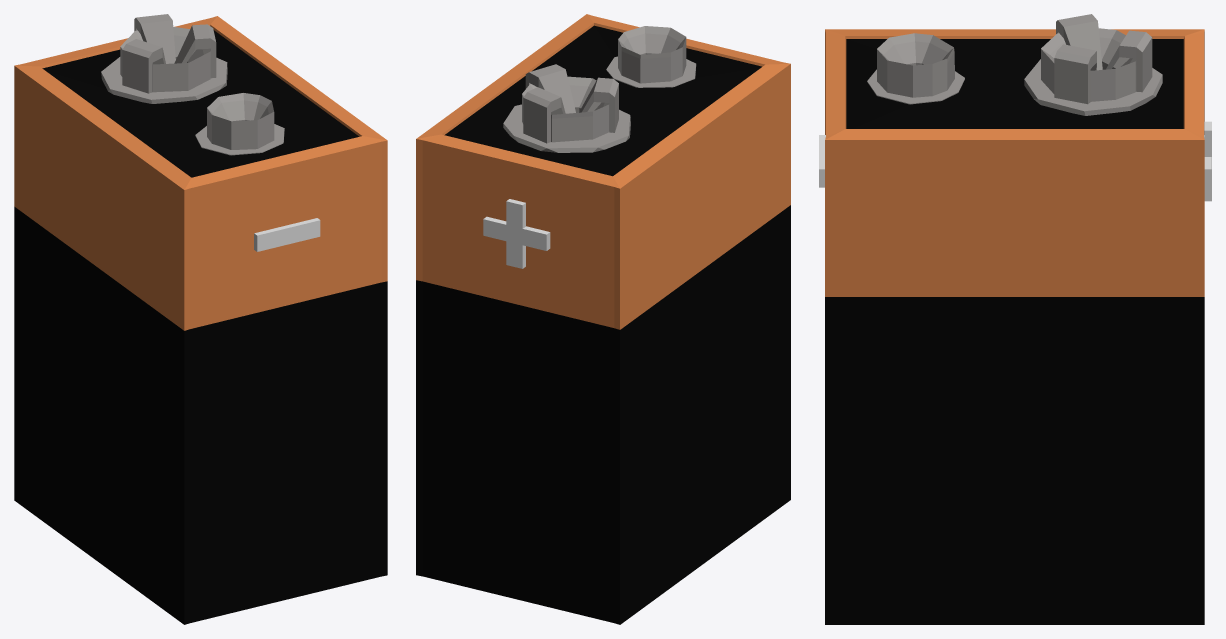
File: duza_bateria.fbx
3 views of the same model, side by side, from view 1: azimuth 30°, elevation 25°; view 2: azimuth 150°, elevation 25°; view 3: azimuth 270°, elevation 25° (orthographic). The views are drawn at different scales.
Visible parts, largest first — view 1: Cube; view 2: Cube; view 3: Cube.
Boxes of the visible parts, bbox=[...] form: Cube: bbox=[14, 14, 387, 624]; Cube: bbox=[416, 14, 790, 624]; Cube: bbox=[819, 14, 1211, 624].
Size of the model in its own units: 4 by 9 by 6.
